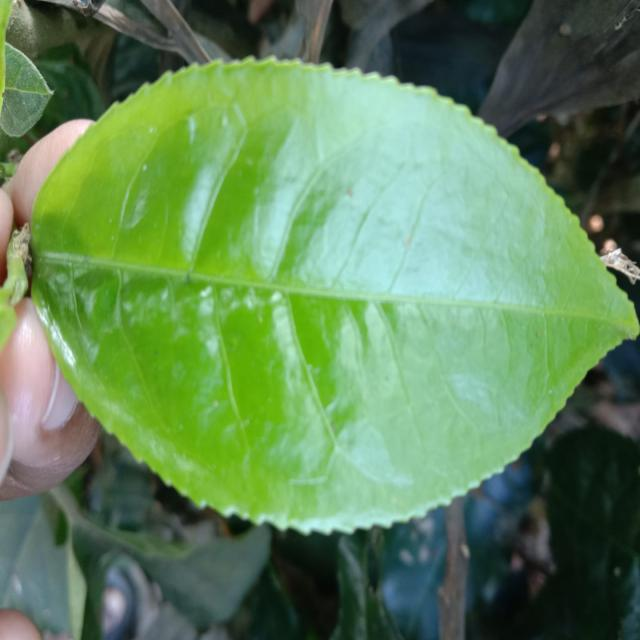Category B 2-4 days: (14, 50, 639, 535)
